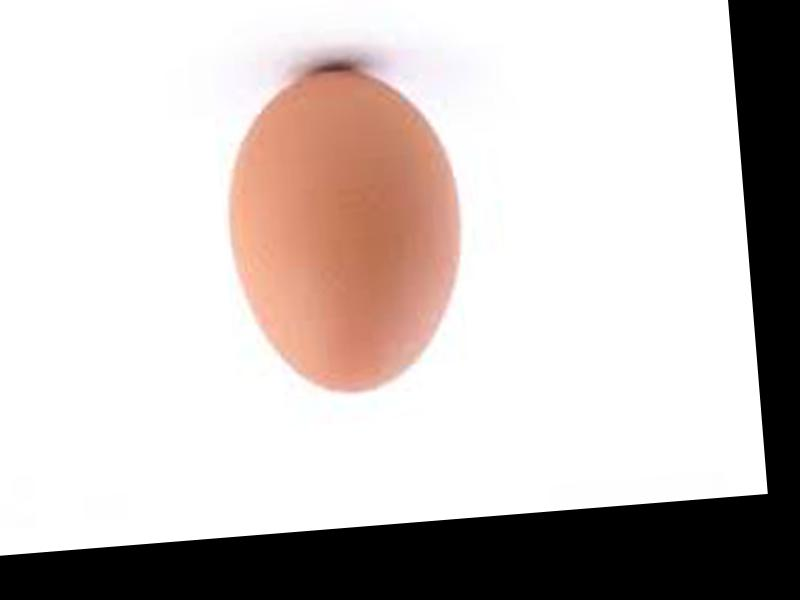Eggs: (218, 61, 476, 400)
